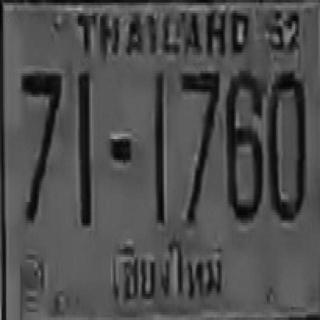N00: (268, 68, 305, 218)
N01: (77, 71, 91, 226), (153, 71, 164, 223)
N06: (225, 70, 262, 219)
N07: (180, 69, 218, 222), (20, 71, 59, 220), (20, 71, 59, 189), (180, 70, 218, 188)
P11: (105, 236, 229, 308)
